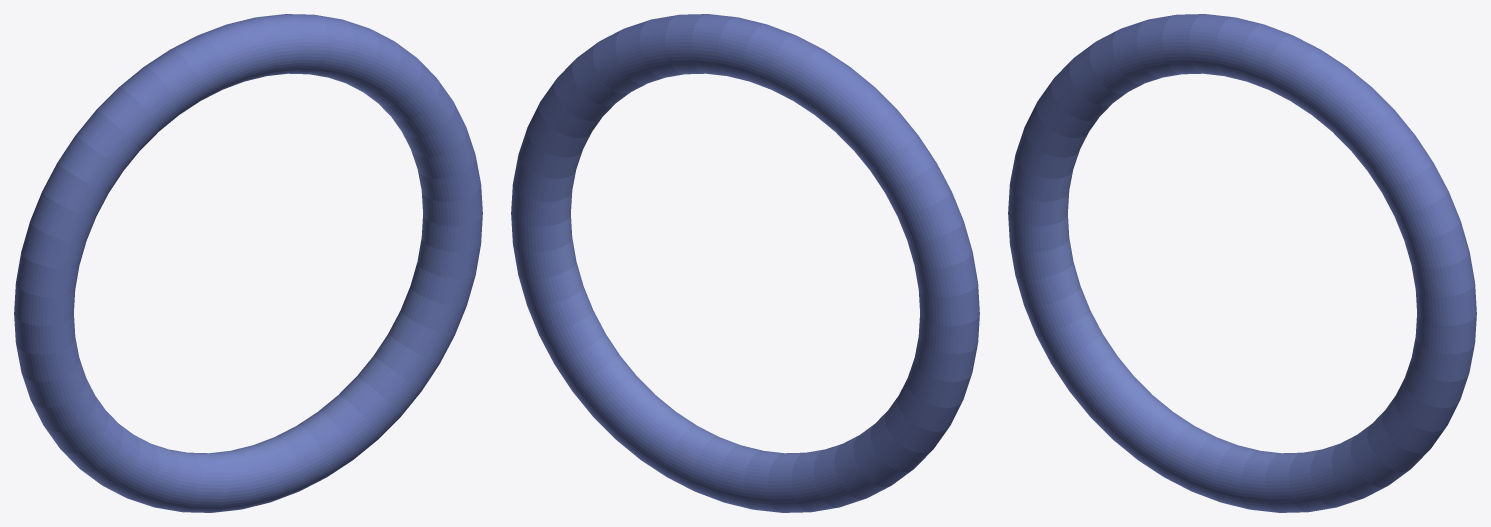
The picture shows the model from 3 angles, left to right: view 1: azimuth 30°, elevation 25°; view 2: azimuth 150°, elevation 25°; view 3: azimuth 330°, elevation 25°; orthographic projection.
Visible parts, largest first — view 1: world; view 2: world; view 3: world.
Boxes of the visible parts, bbox=[...] form: world: bbox=[14, 14, 482, 512]; world: bbox=[511, 14, 979, 512]; world: bbox=[1008, 14, 1476, 512].
Bounding box in the file's own units: 22.53 × 22.49 × 2.53.
